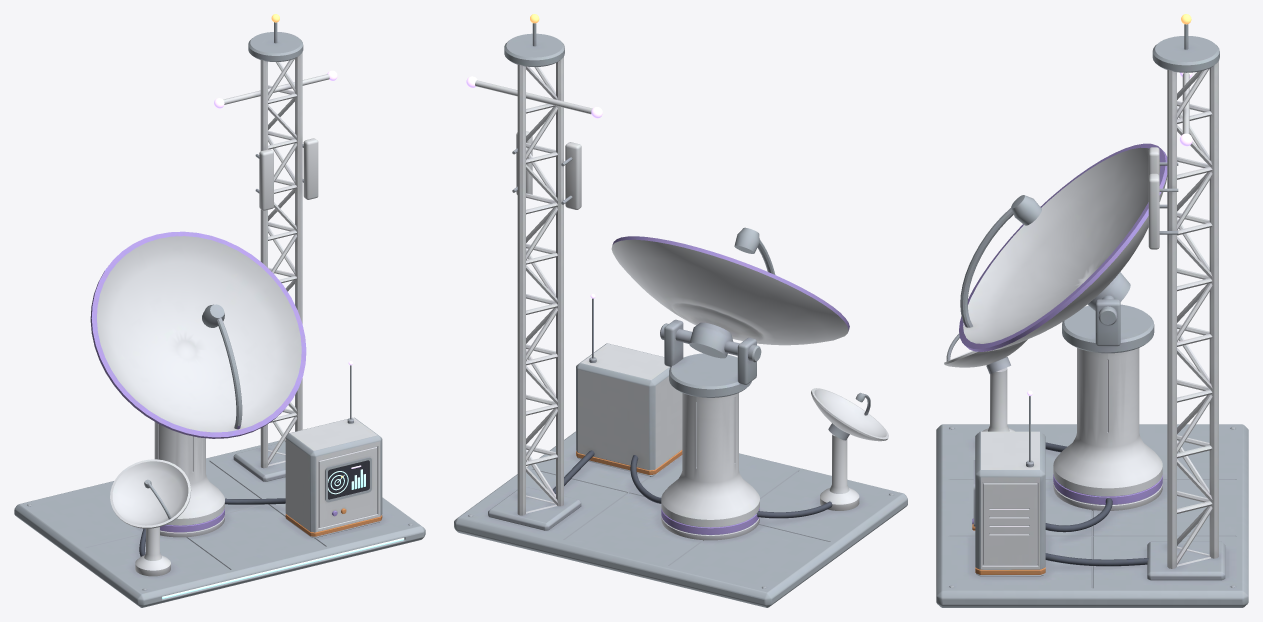
Rendered from antenna-array.glb.
3 views of the same model, side by side, from view 1: azimuth 30°, elevation 25°; view 2: azimuth 150°, elevation 25°; view 3: azimuth 270°, elevation 25° (orthographic). The views are drawn at different scales.
Visible parts, largest first — view 1: antenna-array_body, antenna-array_lights_glow; view 2: antenna-array_body; view 3: antenna-array_body.
Boxes of the visible parts, <box> form: antenna-array_body: <box>14,22,425,607</box>; antenna-array_lights_glow: <box>162,14,404,598</box>; antenna-array_body: <box>454,23,907,607</box>; antenna-array_body: <box>936,24,1248,607</box>.
Bounding box in the file's own units: 2.7 × 4 × 2.
4 materials, 1 textured.
